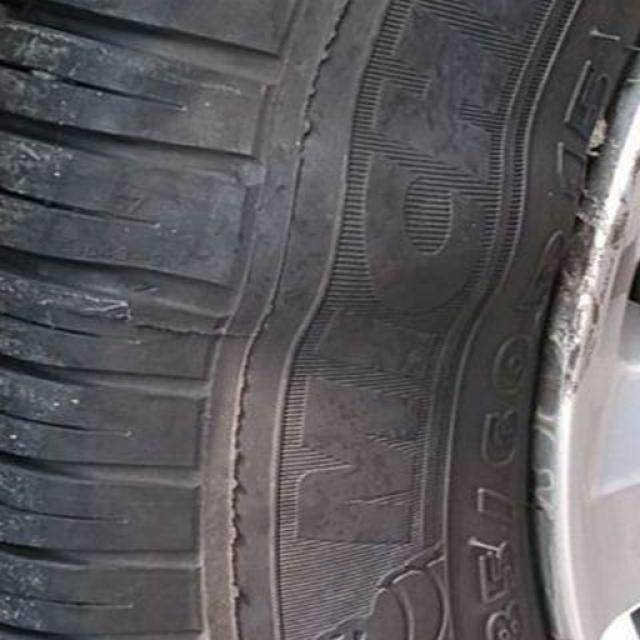Bulge: (234, 115, 570, 308)
